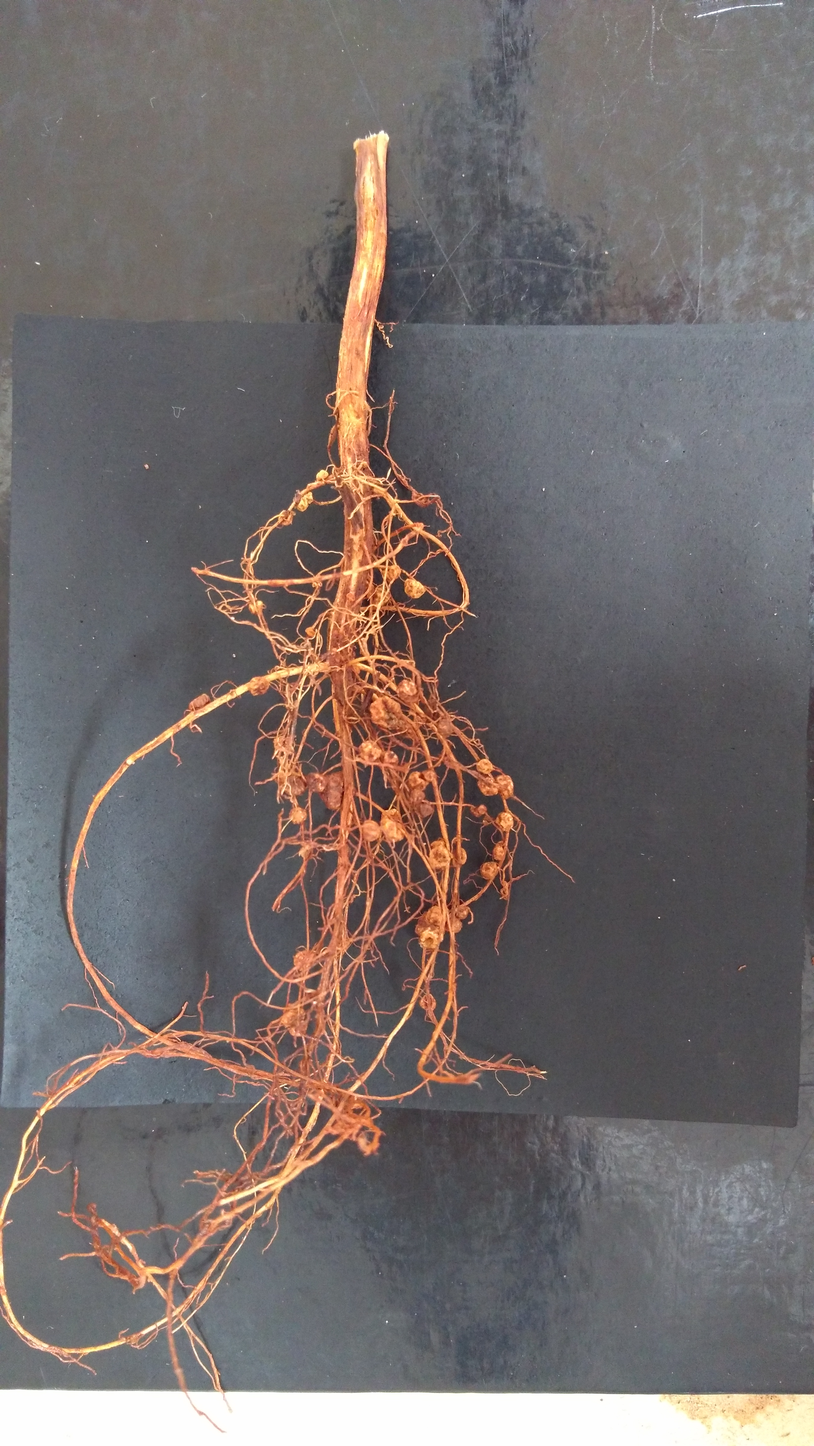nodule: (368, 695, 403, 730), (318, 770, 345, 811), (273, 769, 306, 796), (281, 1006, 308, 1038), (380, 809, 405, 843), (330, 1113, 358, 1139), (396, 678, 421, 706), (414, 910, 440, 936), (429, 840, 451, 868), (292, 948, 316, 971), (359, 740, 382, 763), (425, 905, 450, 926), (323, 1082, 343, 1108), (306, 771, 329, 793), (407, 770, 429, 792), (476, 775, 498, 797), (396, 718, 416, 741), (189, 693, 211, 713), (248, 676, 270, 696), (404, 578, 426, 598), (372, 586, 392, 608), (497, 774, 514, 799), (418, 929, 439, 949), (494, 811, 515, 831), (362, 819, 381, 841), (294, 490, 313, 512), (273, 737, 294, 755), (444, 915, 463, 934), (288, 806, 307, 825), (379, 749, 399, 767), (437, 715, 452, 738), (418, 993, 437, 1011), (480, 861, 498, 880), (452, 846, 467, 868), (492, 840, 506, 862), (347, 1094, 365, 1111), (409, 787, 426, 805), (417, 802, 434, 819), (476, 758, 493, 775), (277, 509, 294, 526), (363, 579, 375, 599), (248, 600, 263, 615), (374, 688, 391, 700), (456, 905, 469, 920), (388, 564, 401, 579), (382, 568, 394, 583), (315, 470, 328, 483), (422, 769, 436, 781), (470, 806, 483, 818), (305, 627, 317, 638), (346, 591, 356, 601), (413, 522, 424, 530), (352, 663, 360, 674), (478, 804, 486, 814), (360, 460, 368, 468), (340, 663, 347, 671), (401, 537, 408, 545), (482, 818, 488, 826), (331, 651, 336, 657), (332, 647, 337, 652)
